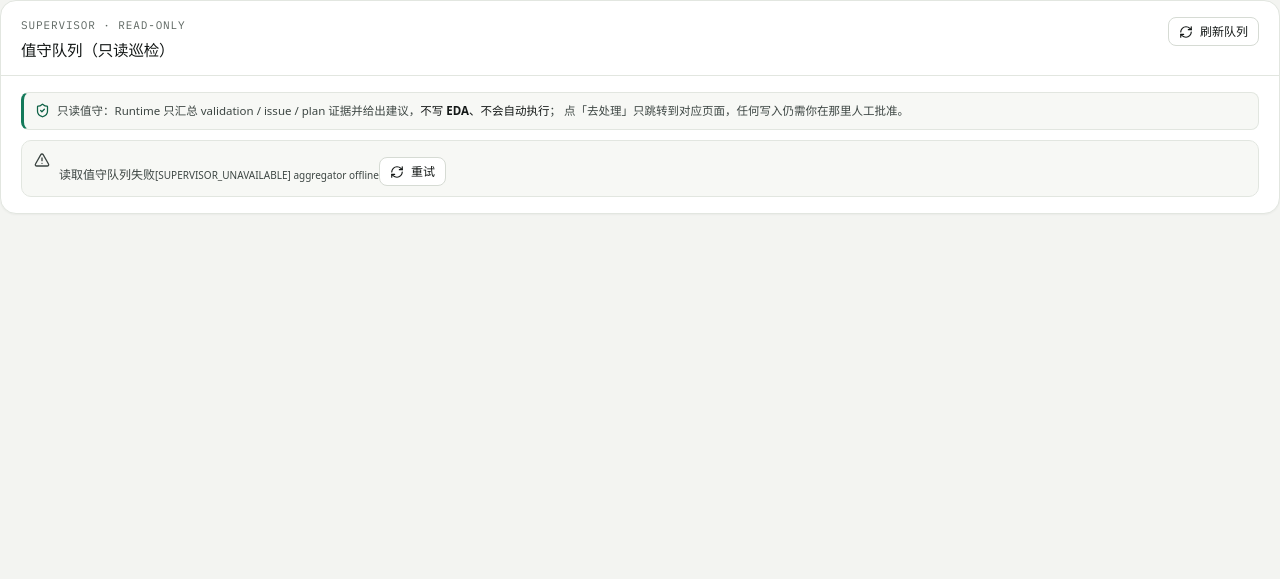
Scenario: 只读 Agent 值守队列（SupervisorPanel） › GET 失败显示 RuntimeApiError 错误码/说明并可重试恢复
The image size is (1280, 579).
Click the button "重试" at coordinates (412, 172), box [379,157,446,186]
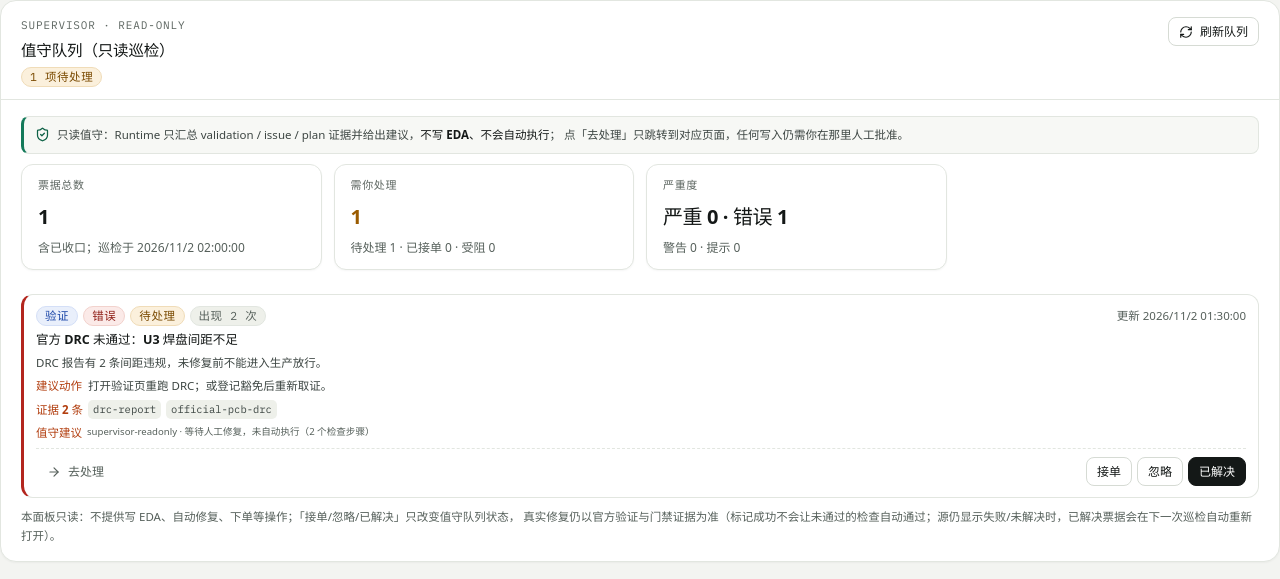
expect the text "官方 DRC 未通过：U3 焊盘间距不足" is shown: met, box [36,331,238,348]
expect the text "读取值守队列失败" is gone: met
